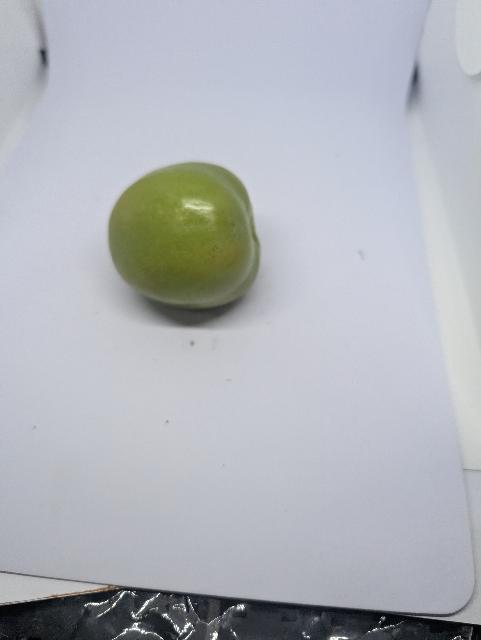green: (105, 159, 262, 307)
